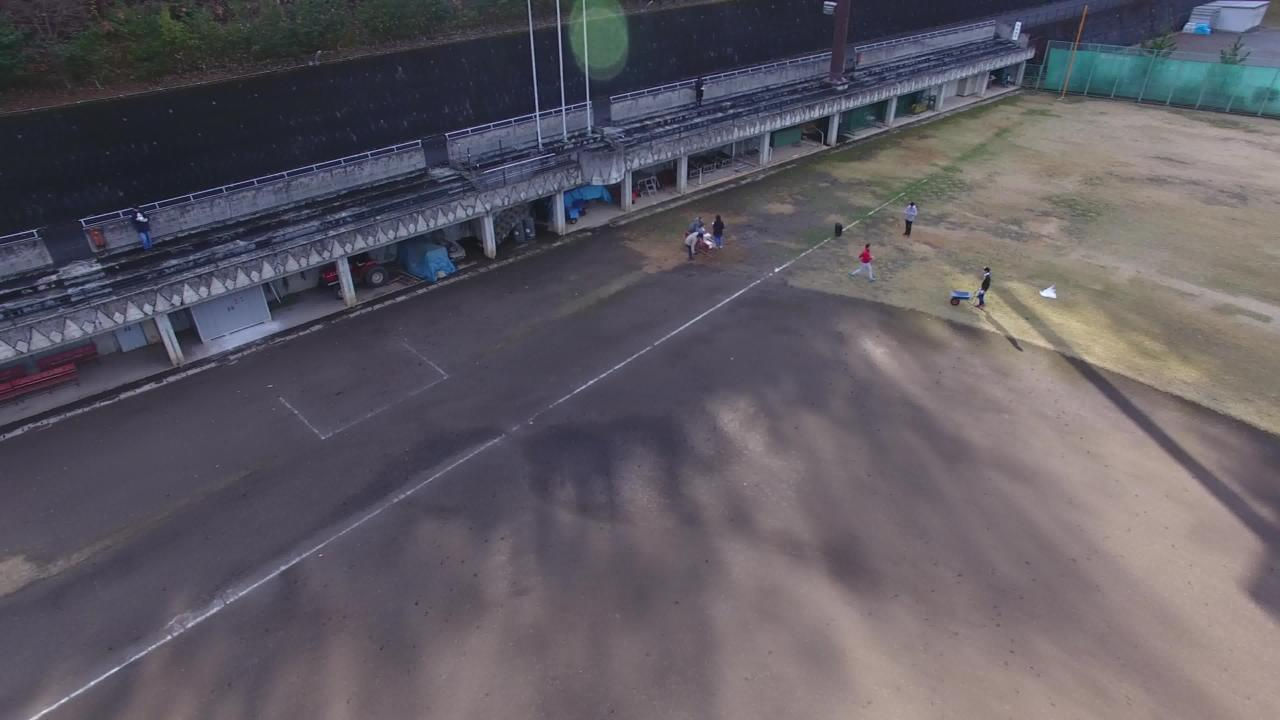person: (679, 67, 715, 120), (850, 232, 886, 285), (891, 191, 927, 244), (968, 262, 1004, 315), (119, 202, 155, 255), (709, 212, 738, 255), (678, 229, 703, 270), (687, 205, 714, 242)
